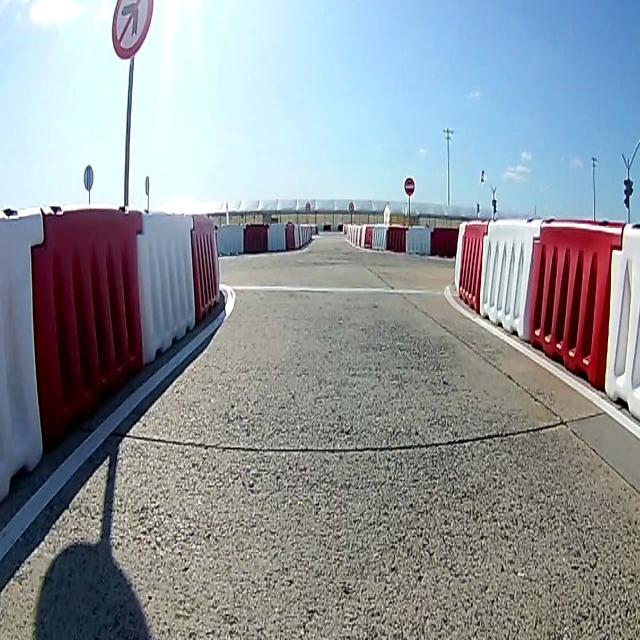girisyok: (404, 177, 414, 196)
soladonulmez: (112, 1, 154, 59)
